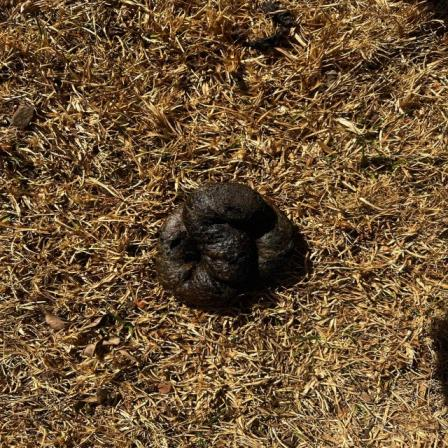dog-poop: (151, 176, 292, 309)
